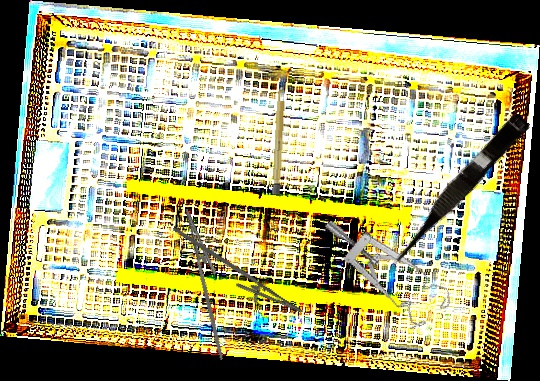Micro Scissor: (380, 108, 532, 272)
Needle Holder: (159, 226, 311, 324), (166, 204, 253, 361)
Scalpel Handle: (272, 83, 286, 197)
Speculum: (324, 188, 457, 344)
